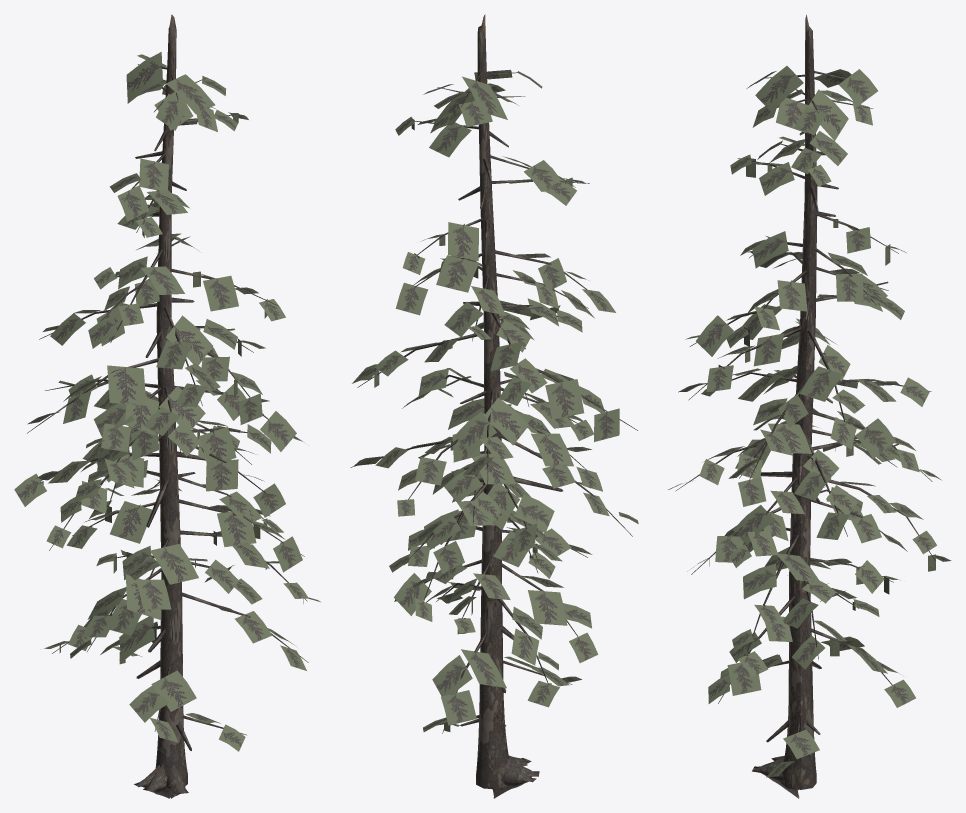
Rendered from BrokenSpruce.glb.
3 renders of one model, left to right at view 1: azimuth 30°, elevation 25°; view 2: azimuth 150°, elevation 25°; view 3: azimuth 270°, elevation 25°, orthographic.
Visible parts, largest first — view 1: twigs_lod1, trunk_lod1, branches_lod1, lichen_lod1; view 2: twigs_lod1, trunk_lod1, branches_lod1, lichen_lod1; view 3: twigs_lod1, trunk_lod1, branches_lod1, lichen_lod1.
Boxes of the visible parts, box(x1,y1,x2,y2) form: twigs_lod1: box(14, 52, 320, 751); trunk_lod1: box(134, 14, 188, 798); branches_lod1: box(27, 64, 308, 750); lichen_lod1: box(40, 113, 303, 664); twigs_lod1: box(352, 69, 638, 731); trunk_lod1: box(476, 14, 539, 798); branches_lod1: box(350, 72, 637, 733); lichen_lod1: box(374, 91, 572, 731); twigs_lod1: box(668, 66, 951, 777); trunk_lod1: box(752, 14, 817, 798); branches_lod1: box(675, 71, 935, 783); lichen_lod1: box(709, 99, 935, 656).
Bounding box in the file's own units: 4.51 × 12.4 × 4.06.
3 materials, 3 textured.
